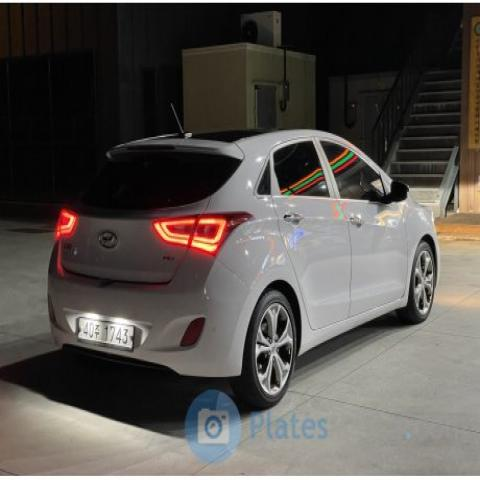LP: (68, 304, 152, 359)
